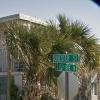Palm tree: (38, 16, 84, 88)
